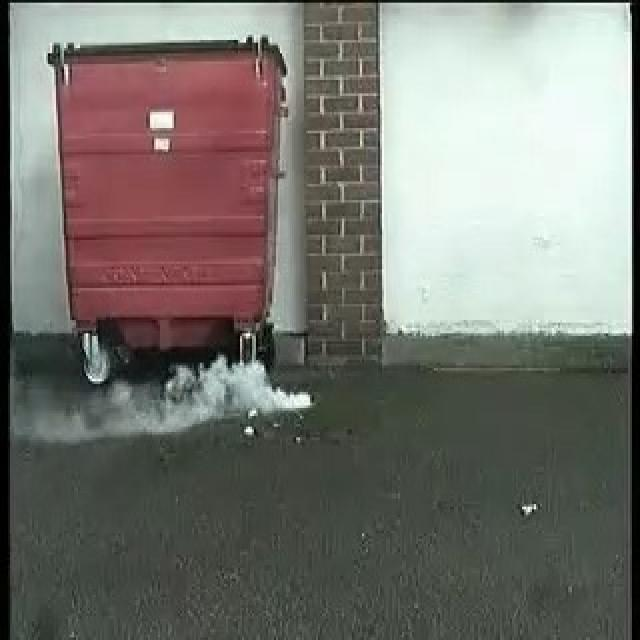smoke: (32, 351, 323, 442)
